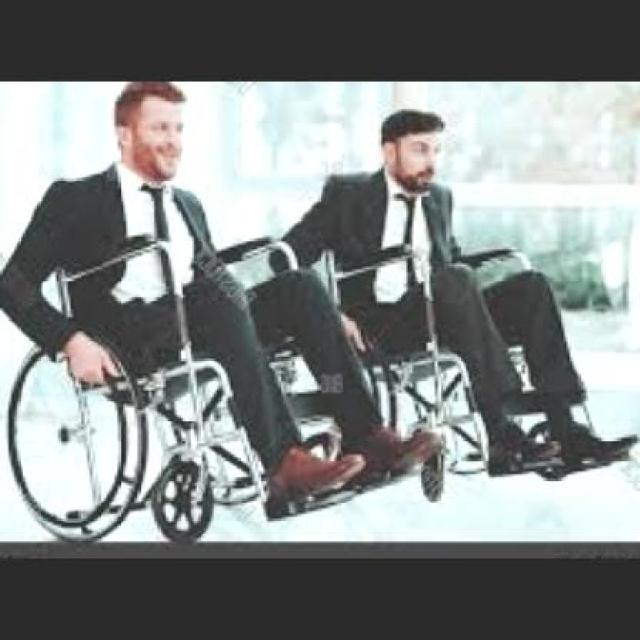wheelchairs: (6, 239, 356, 541), (325, 236, 632, 481)
